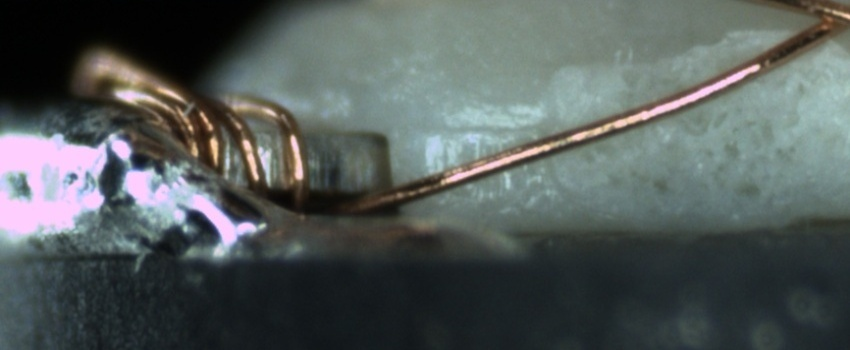CL: (780, 0, 850, 48)
DL: (428, 96, 547, 154)
TE: (63, 40, 313, 210)
